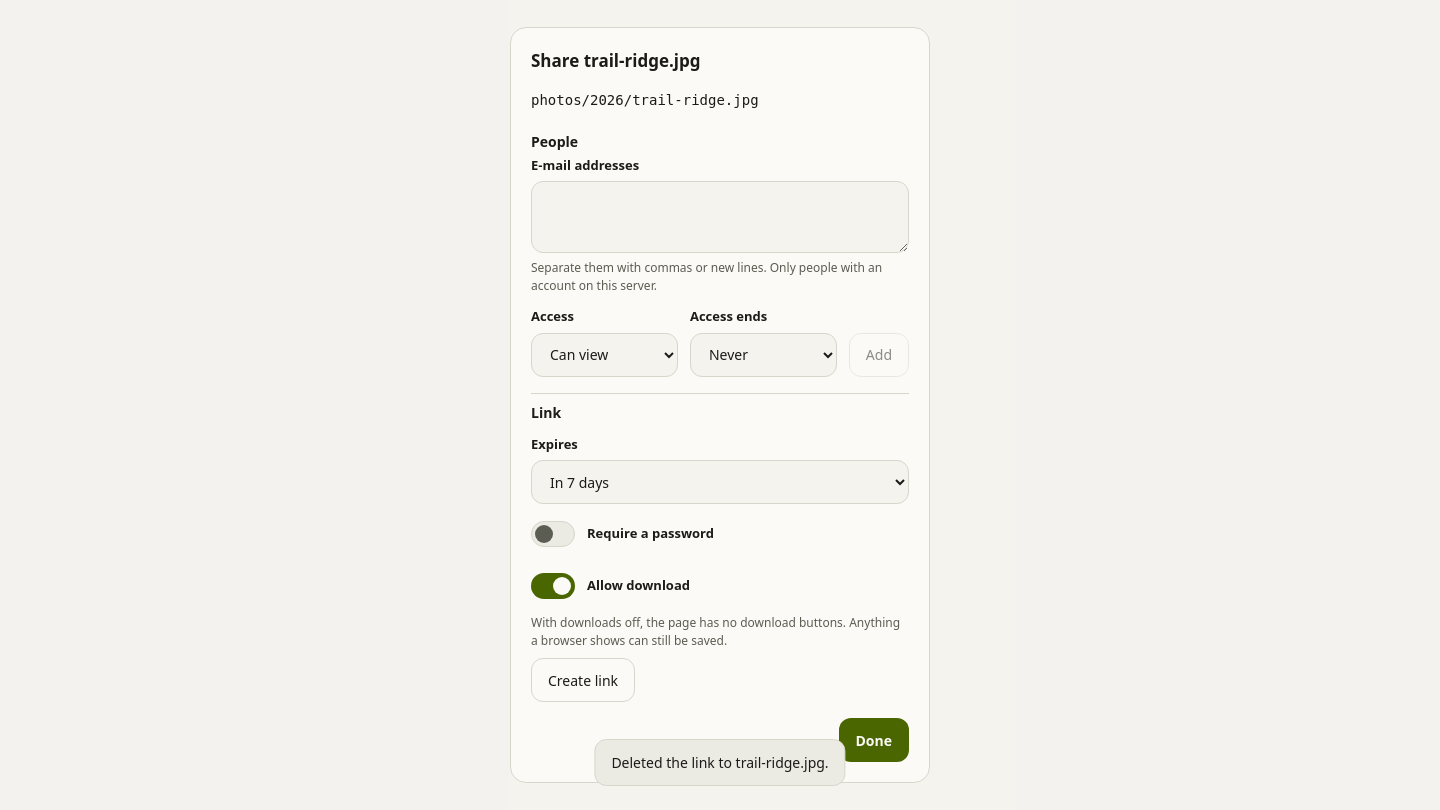
Test: people_rate_limited
Type "x@example.com" into the text box labelled "E-mail addresses" at [720, 217], box [531,181,909,253]
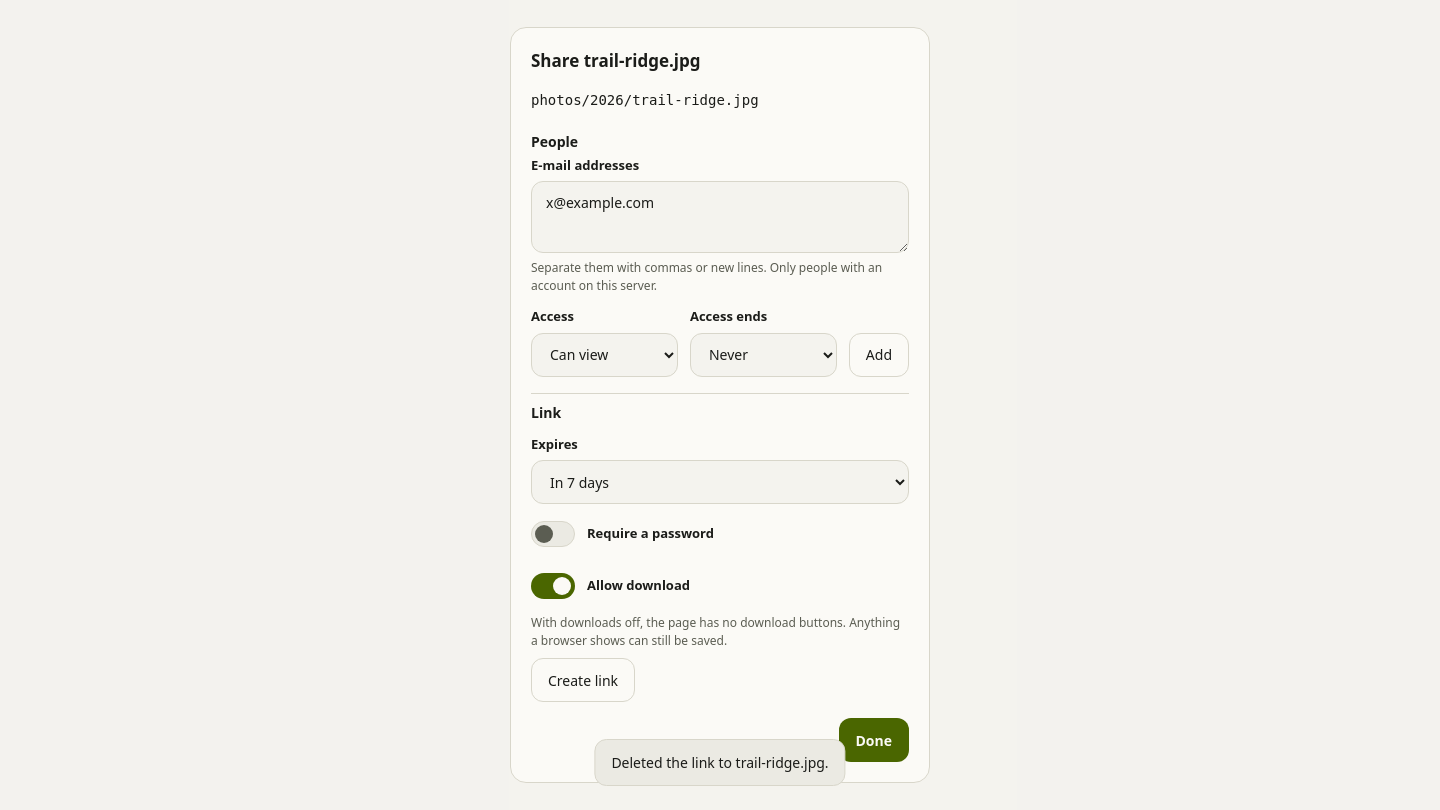
Click the button "Add" at [879, 354], box [849,332,909,376]
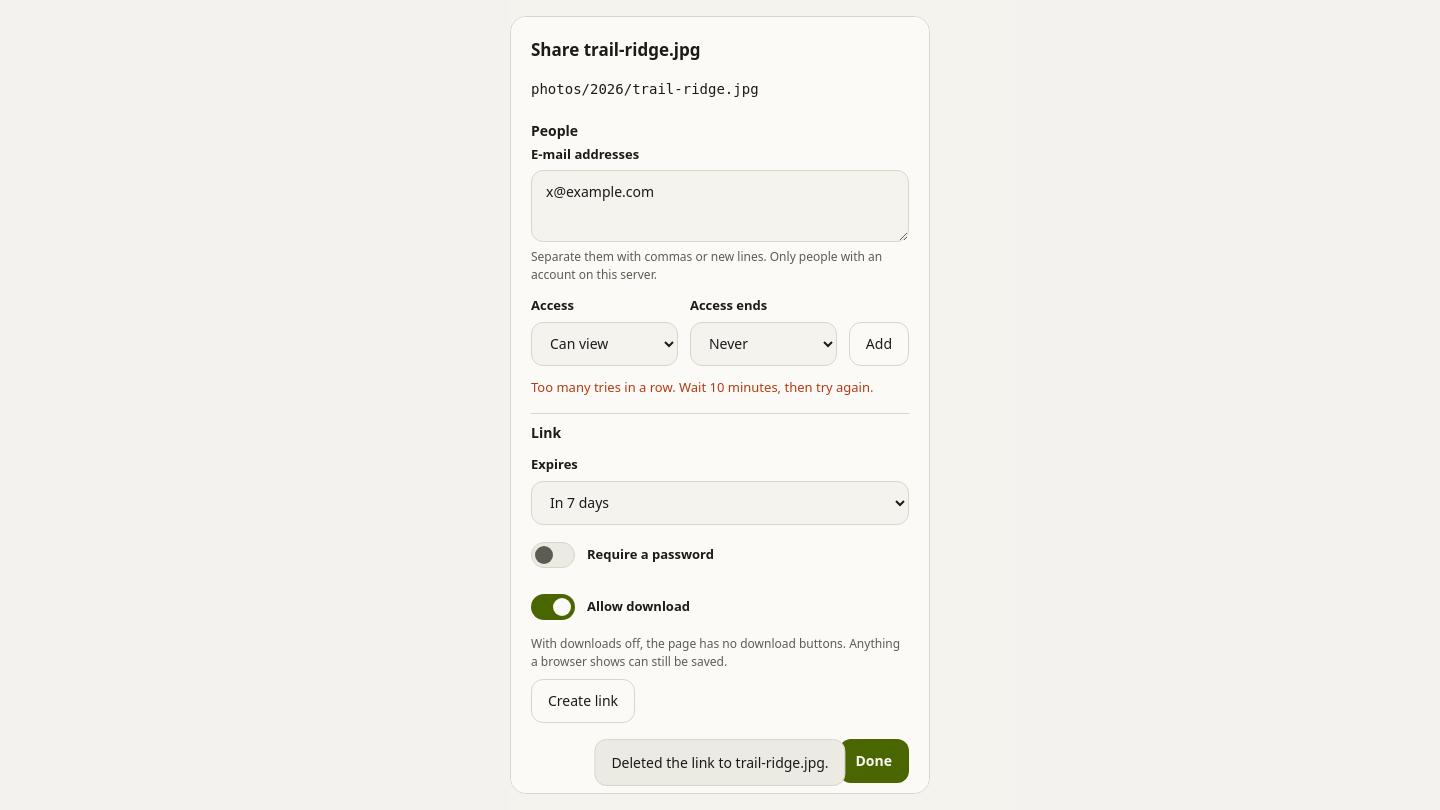
Expected: the text "10 minutes" is shown, [531,378,874,396]
